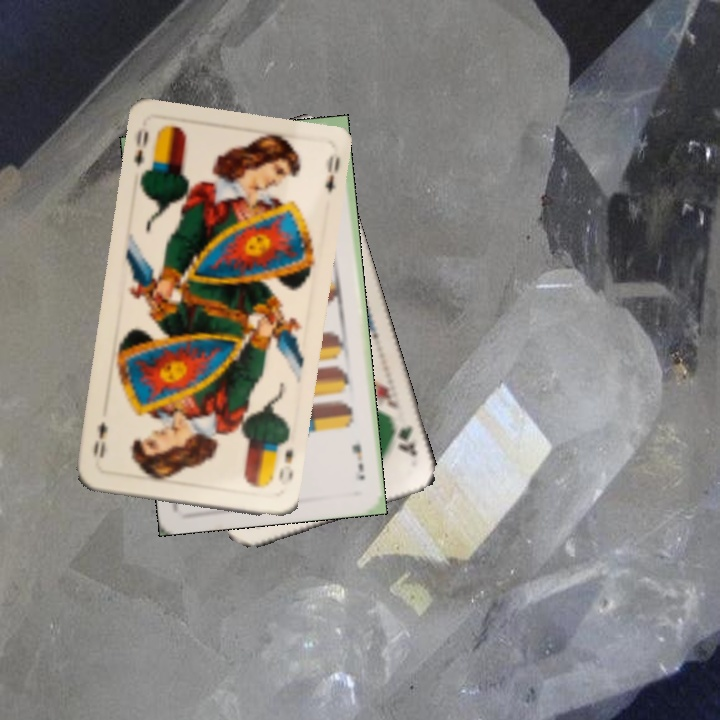E7: (348, 440, 368, 483)
EO: (129, 124, 151, 170), (274, 445, 296, 488)
GK: (393, 422, 420, 459)
